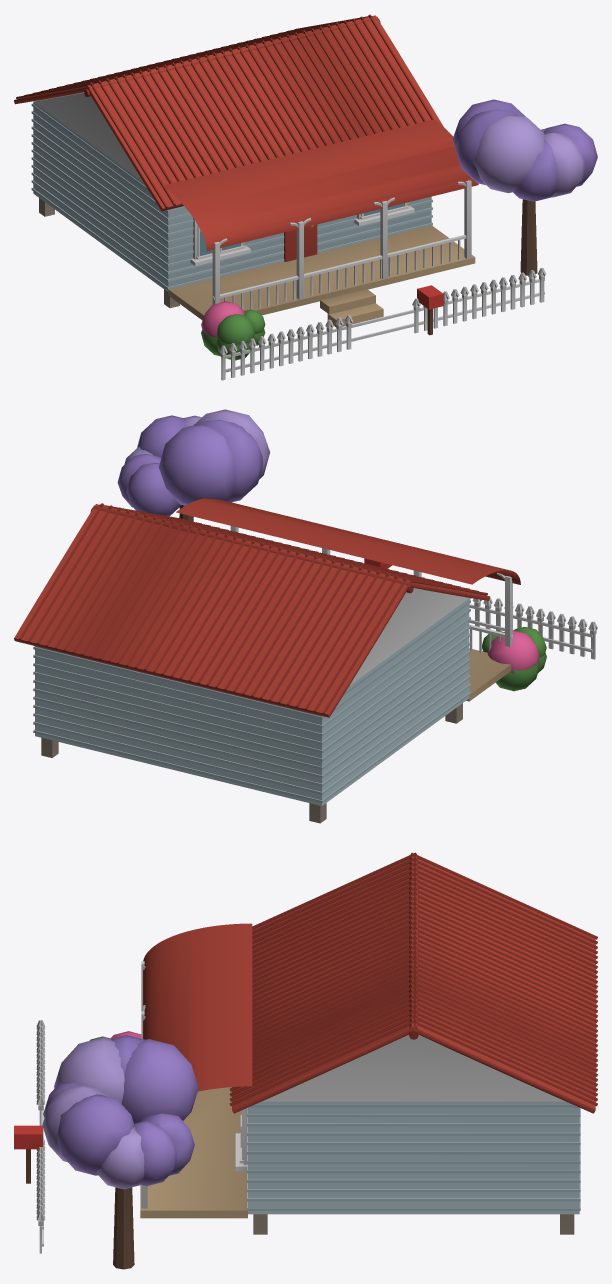
Rendered from hs-1kmgzt.glb.
The picture shows the model from 3 angles, top to bottom: view 1: azimuth 30°, elevation 25°; view 2: azimuth 150°, elevation 25°; view 3: azimuth 270°, elevation 25°; orthographic projection. The views are drawn at different scales.
Bounding box in the file's own units: 13.61 × 6.25 × 14.1.
